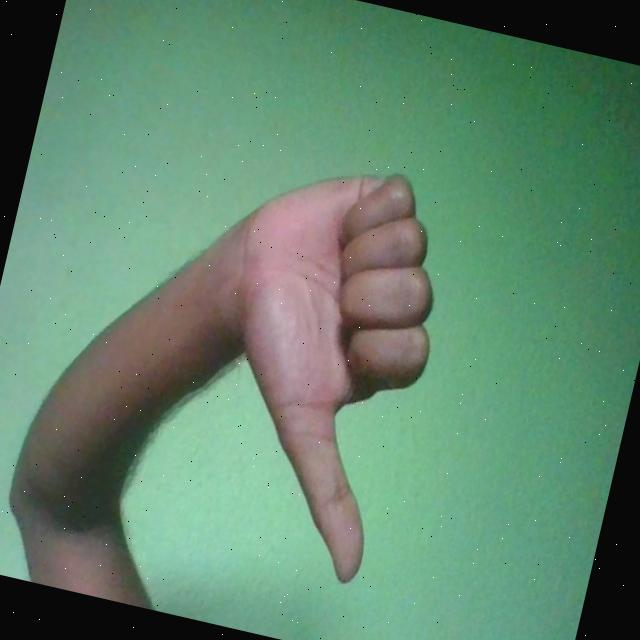Dislike: (173, 139, 469, 591)
